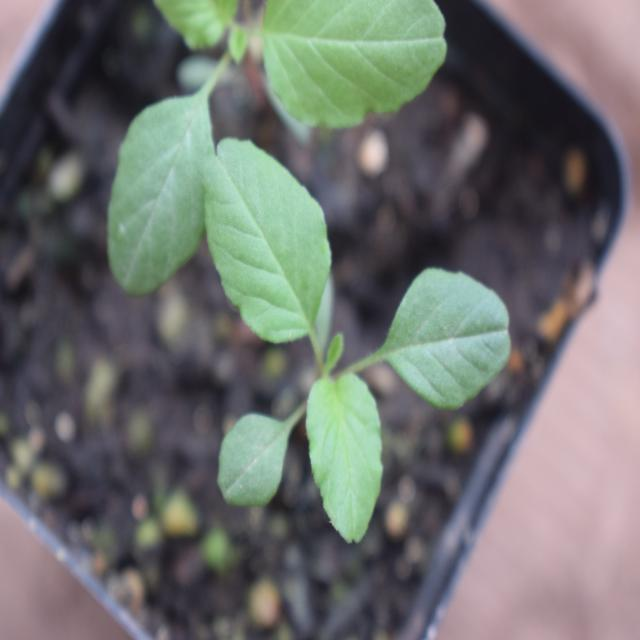pigweed: (184, 121, 486, 535)
